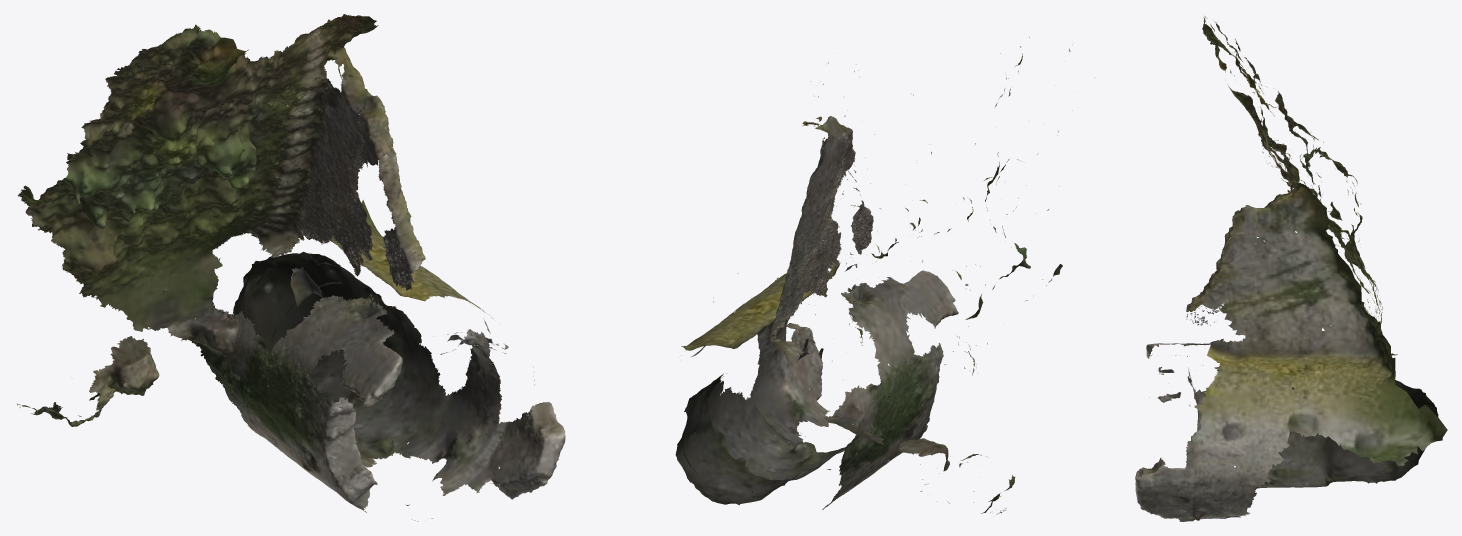
3 renders of one model, left to right at view 1: azimuth 30°, elevation 25°; view 2: azimuth 150°, elevation 25°; view 3: azimuth 270°, elevation 25°, orthographic. The views are drawn at different scales.
Size of the model in its own units: 16.55 by 20.17 by 14.07.
1 material, 1 textured.
